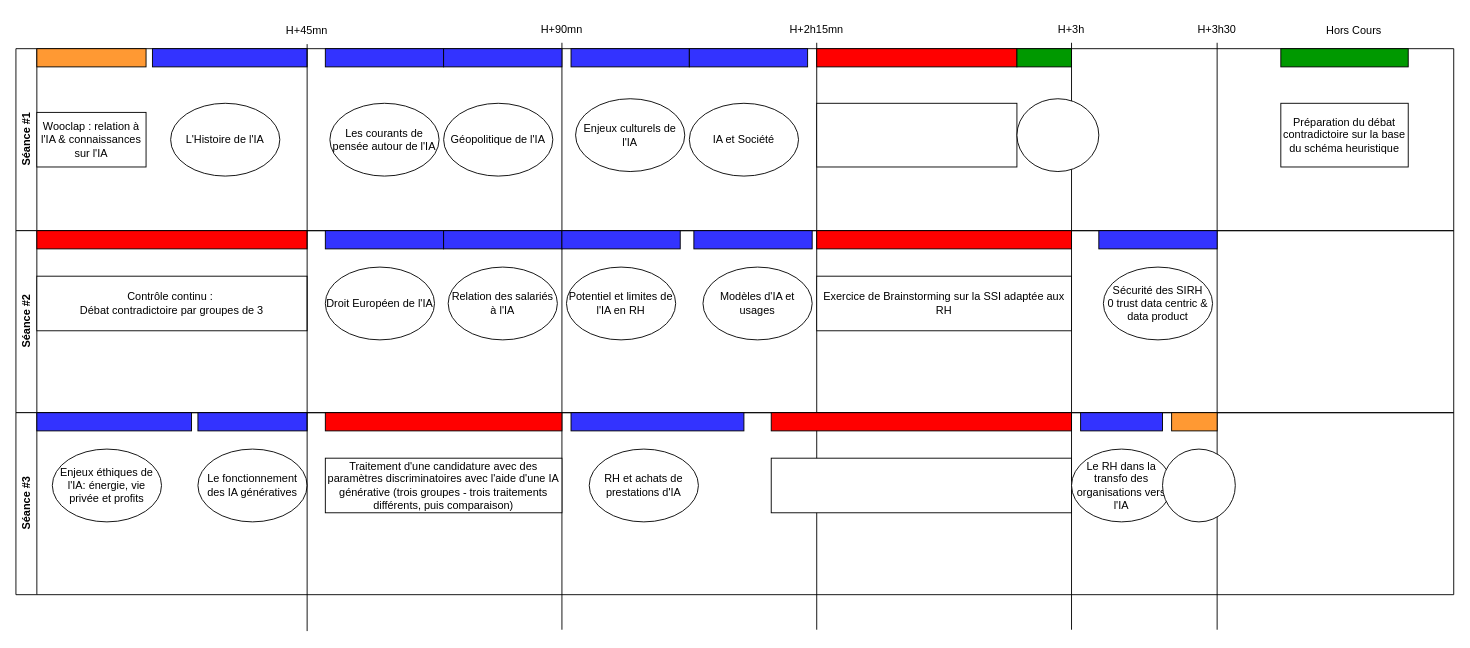
Some shapes in this 1470 by 648 pixel diagram are drawn without their labels. The shapes that lost their labels are listed below. From the top down, each one's centre as x and y in pixels, then its label:
At [916,134]: "Création collective d'un schéma heuristique autour des thèmes de la journée".
At [1057,135]: "Consignes pour le CC".
At [921,485]: "Contrôle Continu N°2: Analyse critique d'une prestation d'IA".
At [1198,485]: "Conclusion du cours".
